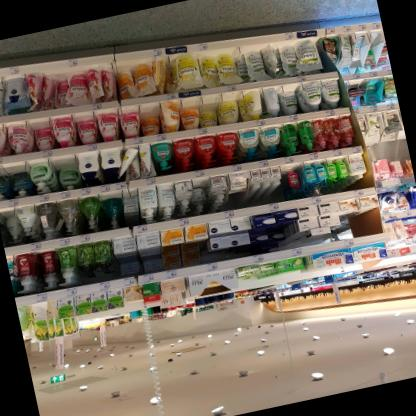empty_space: (280, 164, 294, 201)
